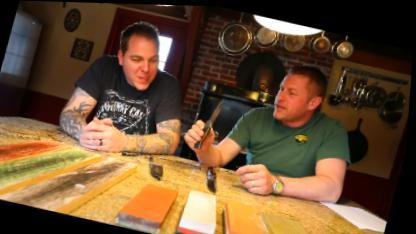knife: (186, 84, 231, 148)
